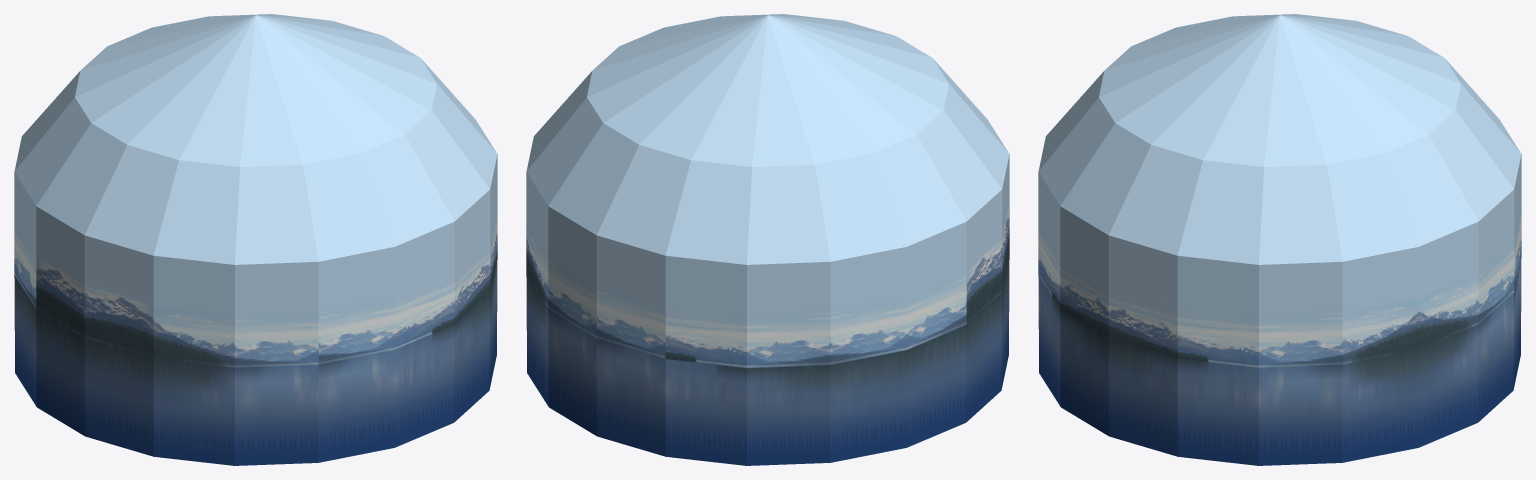
The picture shows the model from 3 angles, left to right: view 1: azimuth 30°, elevation 25°; view 2: azimuth 150°, elevation 25°; view 3: azimuth 270°, elevation 25°; orthographic projection.
Parts seen in each view (by area): view 1: mesh00; view 2: mesh00; view 3: mesh00.
Boxes of the visible parts, x1,y1,x2,y2 form: mesh00: [14, 14, 497, 465]; mesh00: [526, 14, 1009, 465]; mesh00: [1038, 14, 1521, 465].
Size of the model in its own units: 98399 by 91210 by 98399.
1 material, 1 textured.
